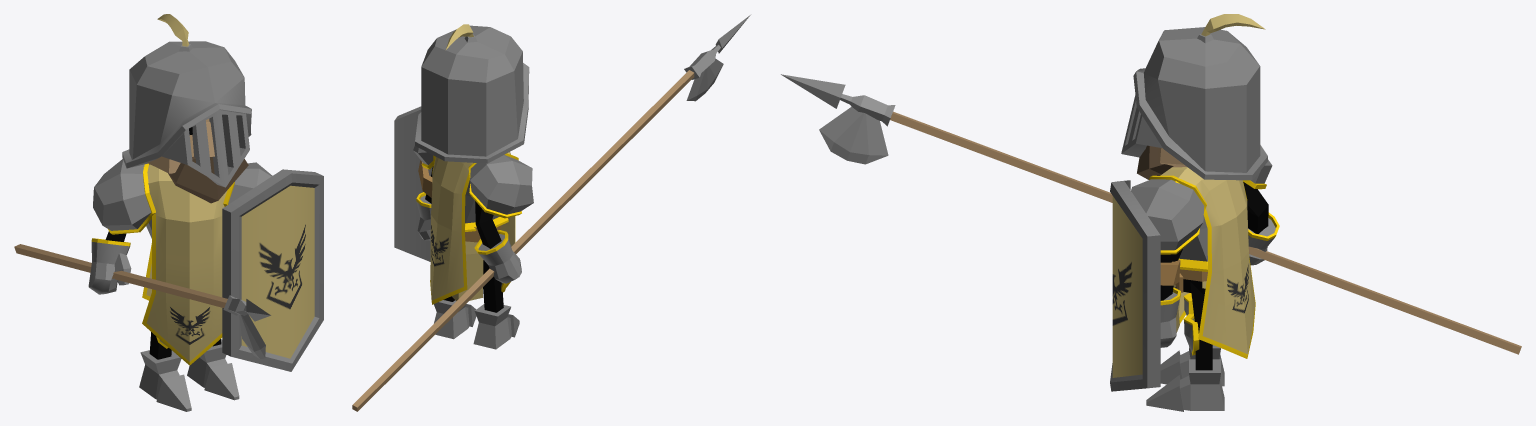
The picture shows the model from 3 angles, left to right: view 1: azimuth 30°, elevation 25°; view 2: azimuth 150°, elevation 25°; view 3: azimuth 270°, elevation 25°; orthographic projection. The views are drawn at different scales.
Parts seen in each view (by area): view 1: Soldier_22; view 2: Soldier_22; view 3: Soldier_22.
Boxes of the visible parts, <box> form: Soldier_22: <box>14,14,323,411</box>; Soldier_22: <box>352,15,750,411</box>; Soldier_22: <box>781,14,1521,411</box>.
Size of the model in its own units: 1.19 by 1.81 by 3.21.
Materials: 12 (2 with a texture image).
